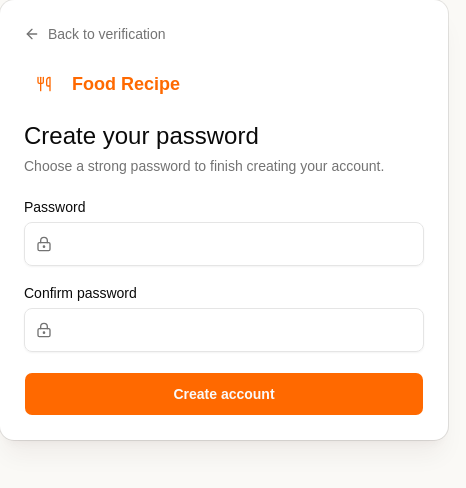
Test case: shows an error when passwords do not match
Type "Recipe123!" into the password field labelled "Password".
click(224, 244); type("Recipe123!")  # box top-left (24, 222), bottom-right (424, 266)
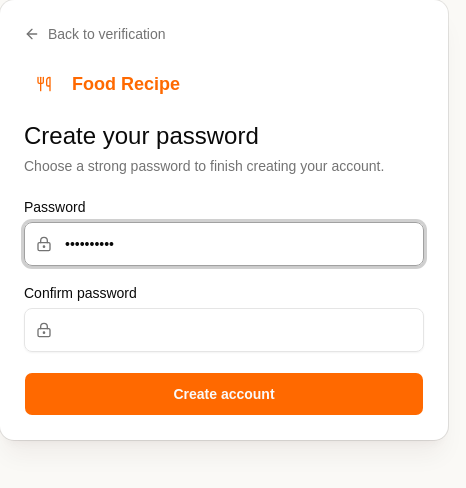
Type "Different123!" into the password field labelled "Confirm password".
click(224, 330); type("Different123!")  # box top-left (24, 308), bottom-right (424, 352)
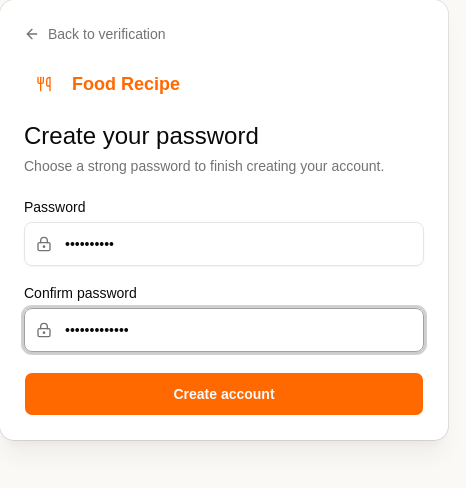
Click the button "Create account".
click(224, 394)  # box top-left (24, 372), bottom-right (424, 416)
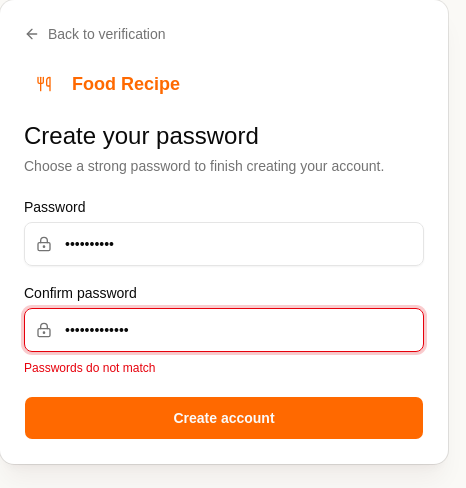
Expected: the text "Passwords do not match" is shown, top-left (24, 361), bottom-right (155, 375)
